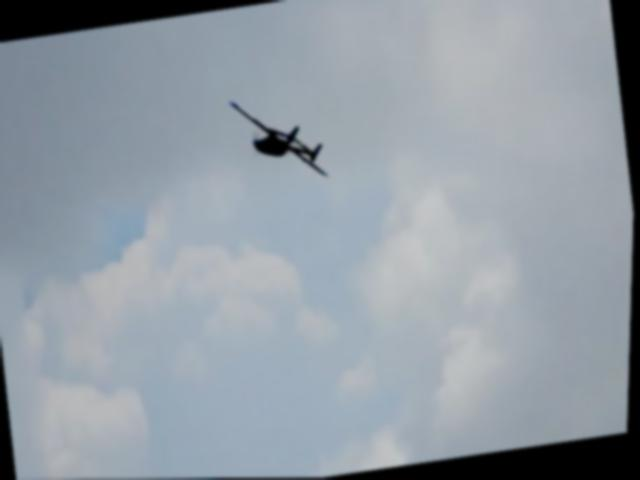uav: (226, 84, 335, 194)
